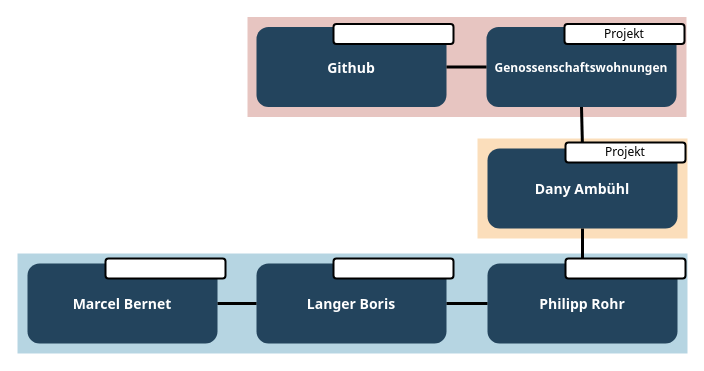
The diagram is 704 pixels wide and 371 high, and some of its shapes have lost their labels. Each missing label, with the centre of its shape:
Dokumentablage: the point at 393,33
Fach Experte: the point at 393,268
Projekt Experte: the point at 625,268
Studiengangleiter: the point at 165,268
